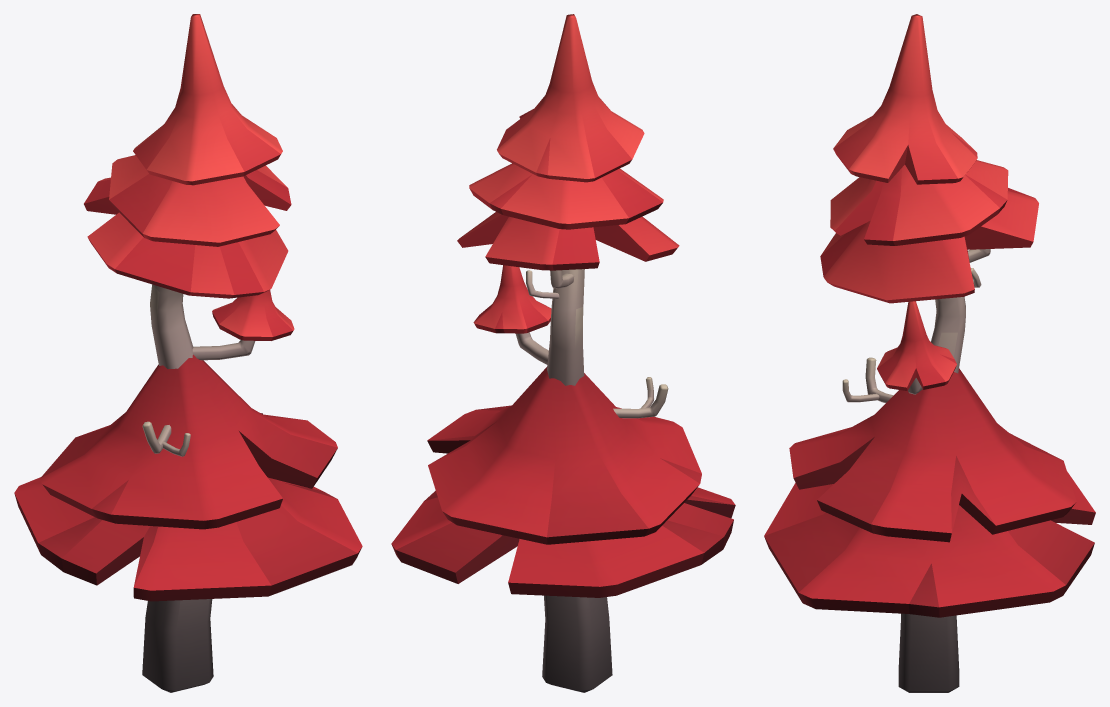
Rendered from pine_tree_col3_5.fbx.
The picture shows the model from 3 angles, left to right: view 1: azimuth 30°, elevation 25°; view 2: azimuth 150°, elevation 25°; view 3: azimuth 270°, elevation 25°; orthographic projection. The views are drawn at different scales.
Visible parts, largest first — view 1: pine_tree_col3_5; view 2: pine_tree_col3_5; view 3: pine_tree_col3_5.
Part boxes in pixels (left/top/right/bottom): pine_tree_col3_5: left=14, top=14, right=362, bottom=692; pine_tree_col3_5: left=391, top=14, right=735, bottom=692; pine_tree_col3_5: left=764, top=14, right=1095, bottom=692.
Size of the model in its own units: 465 by 1043 by 465.
Materials: 1 (1 with a texture image).
